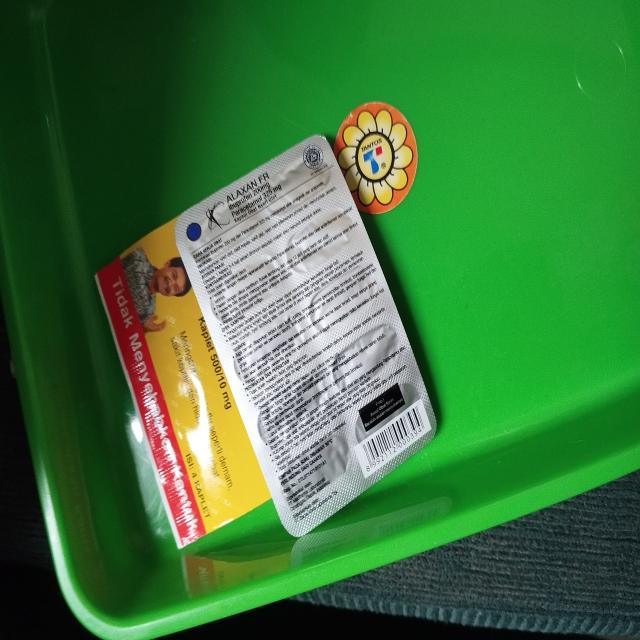B3: (173, 132, 438, 539), (95, 206, 272, 548)
